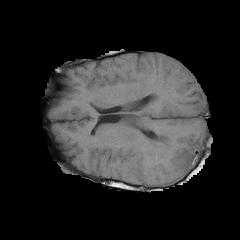glioma: (142, 125, 202, 177)
